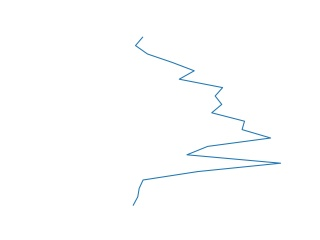floodSwamp: (128, 35, 285, 203)
